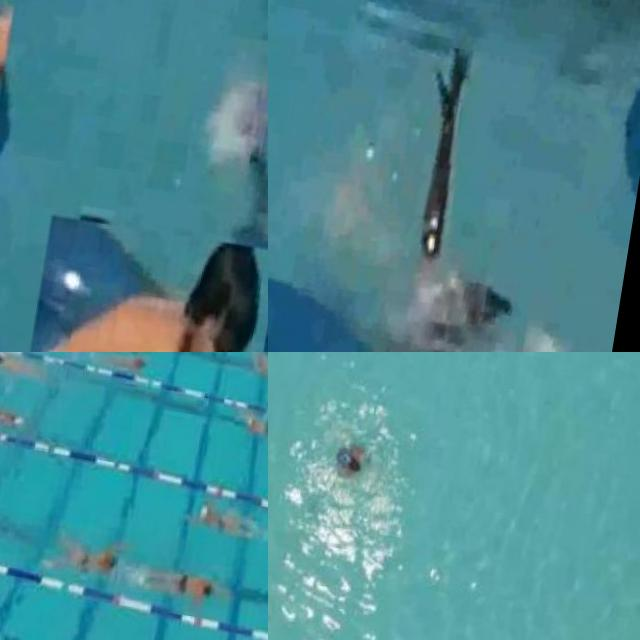drowning: (361, 32, 636, 352), (222, 98, 268, 249)
swimming: (16, 215, 268, 352), (185, 488, 263, 543), (130, 557, 212, 609), (47, 525, 116, 578), (334, 442, 379, 488), (233, 405, 268, 450), (105, 352, 151, 376), (0, 352, 38, 381), (0, 395, 26, 433), (244, 353, 268, 388)
